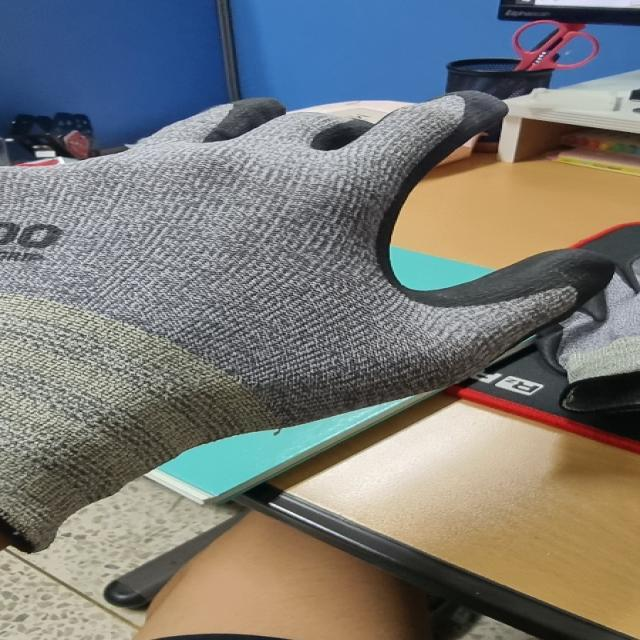Gloves: (0, 95, 553, 540), (549, 260, 640, 417)
